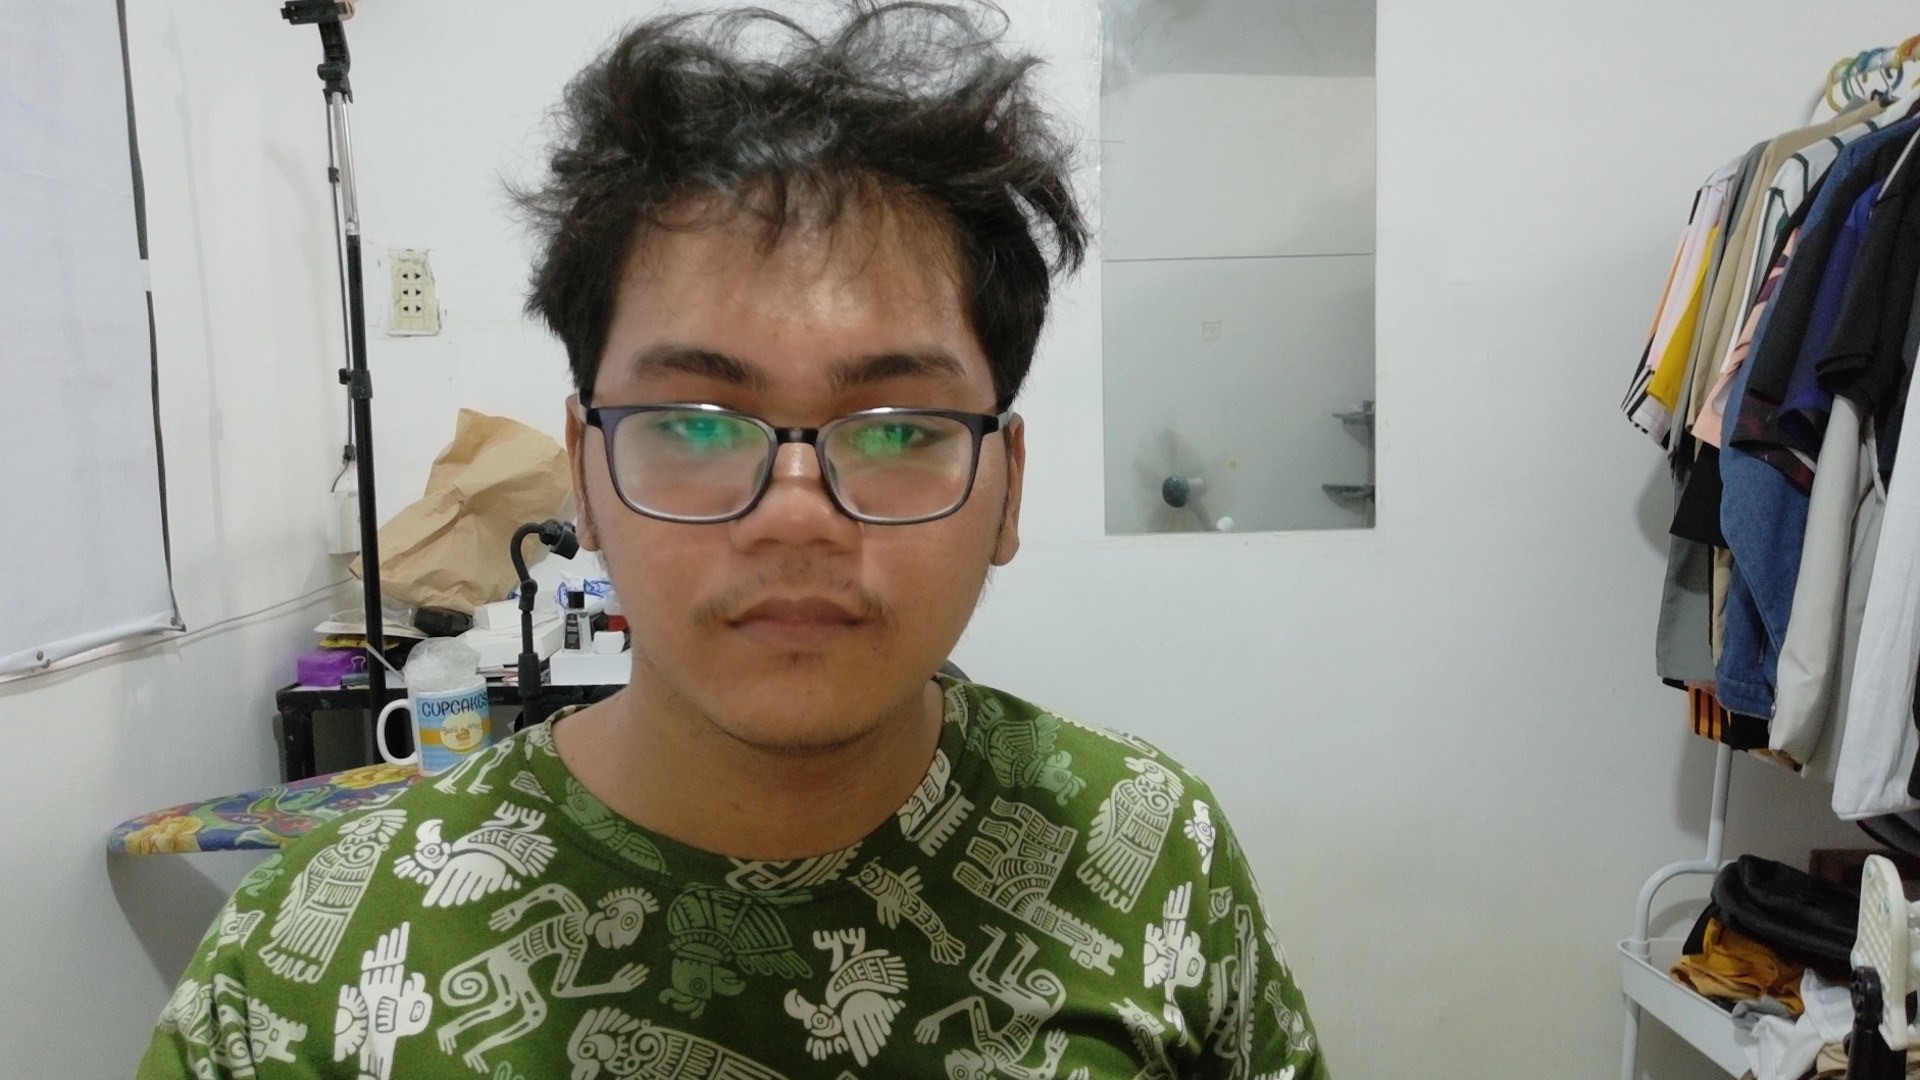face: (484, 43, 1168, 743)
